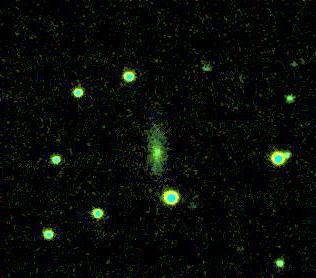star: (142, 127, 172, 157)
